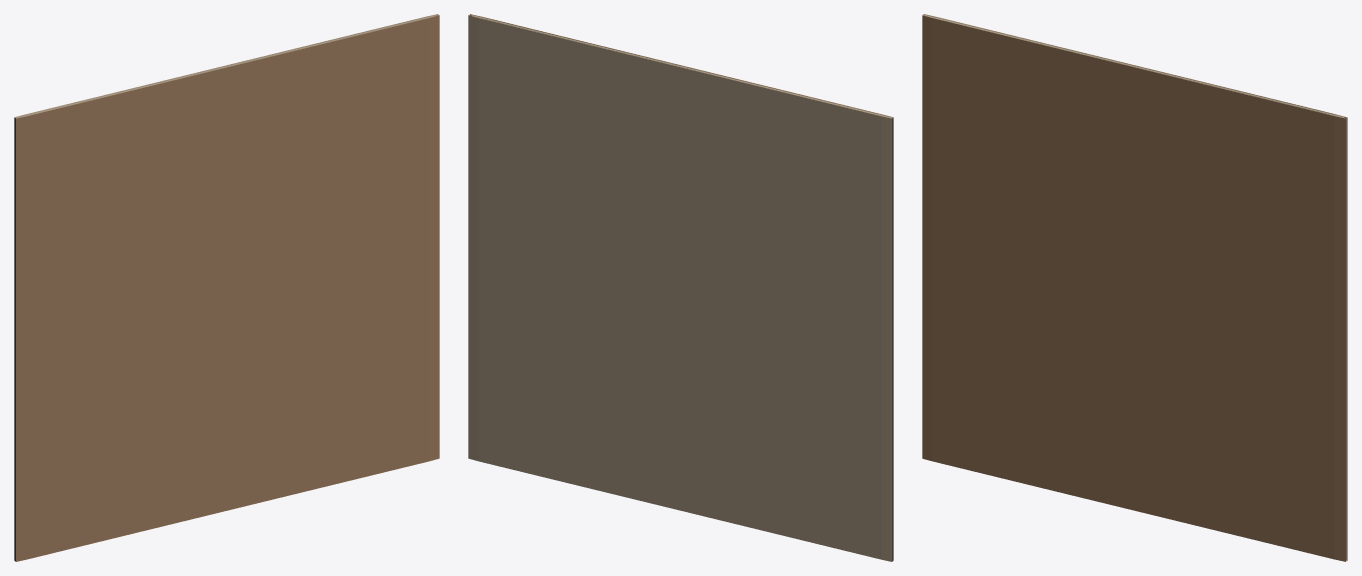
File: vinyl.glb
The picture shows the model from 3 angles, left to right: view 1: azimuth 30°, elevation 25°; view 2: azimuth 150°, elevation 25°; view 3: azimuth 330°, elevation 25°; orthographic projection.
Visible parts, largest first — view 1: Detail_vinyl, Shelf_vinyl; view 2: Detail_vinyl, Shelf_vinyl; view 3: Detail_vinyl, Shelf_vinyl.
Boxes of the visible parts, left/top/right/bottom form: Detail_vinyl: left=14, top=14, right=439, bottom=561; Shelf_vinyl: left=15, top=14, right=437, bottom=117; Detail_vinyl: left=468, top=14, right=893, bottom=561; Shelf_vinyl: left=470, top=14, right=892, bottom=118; Detail_vinyl: left=922, top=14, right=1347, bottom=561; Shelf_vinyl: left=924, top=14, right=1347, bottom=560.
Size of the model in its own units: 0.315 by 0.315 by 0.003.
